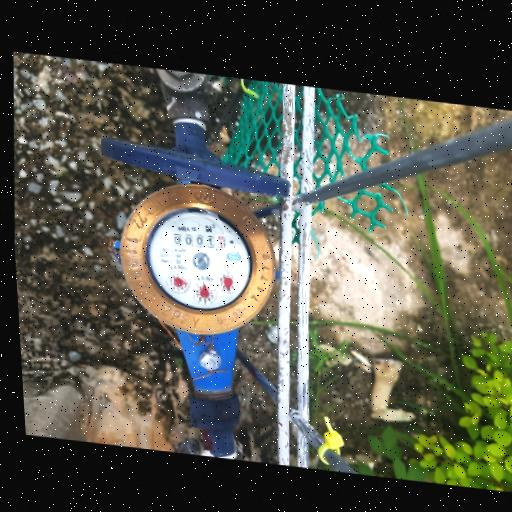0: (184, 233, 194, 247), (195, 234, 205, 248), (172, 234, 182, 246)
1: (216, 235, 226, 250), (205, 235, 215, 247)
border_water_meter_number: (170, 227, 232, 255)
